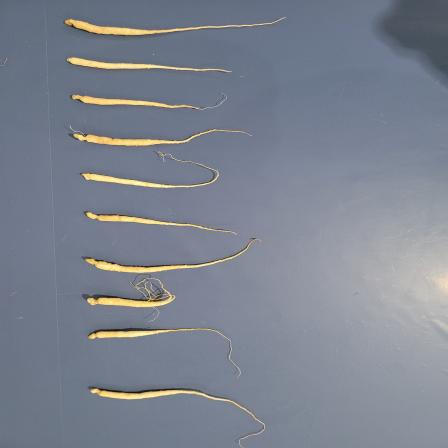Ginseng: (89, 388, 266, 448), (83, 324, 238, 378), (80, 236, 264, 274), (76, 150, 222, 192), (62, 16, 284, 36), (82, 208, 238, 236), (70, 129, 254, 149), (82, 276, 180, 312), (70, 91, 230, 111), (63, 57, 235, 75)
head: (72, 132, 92, 142), (83, 258, 102, 268), (86, 211, 102, 222), (87, 296, 103, 306), (90, 388, 106, 397), (88, 330, 102, 340), (72, 94, 86, 104), (64, 19, 78, 29), (81, 172, 95, 181)
